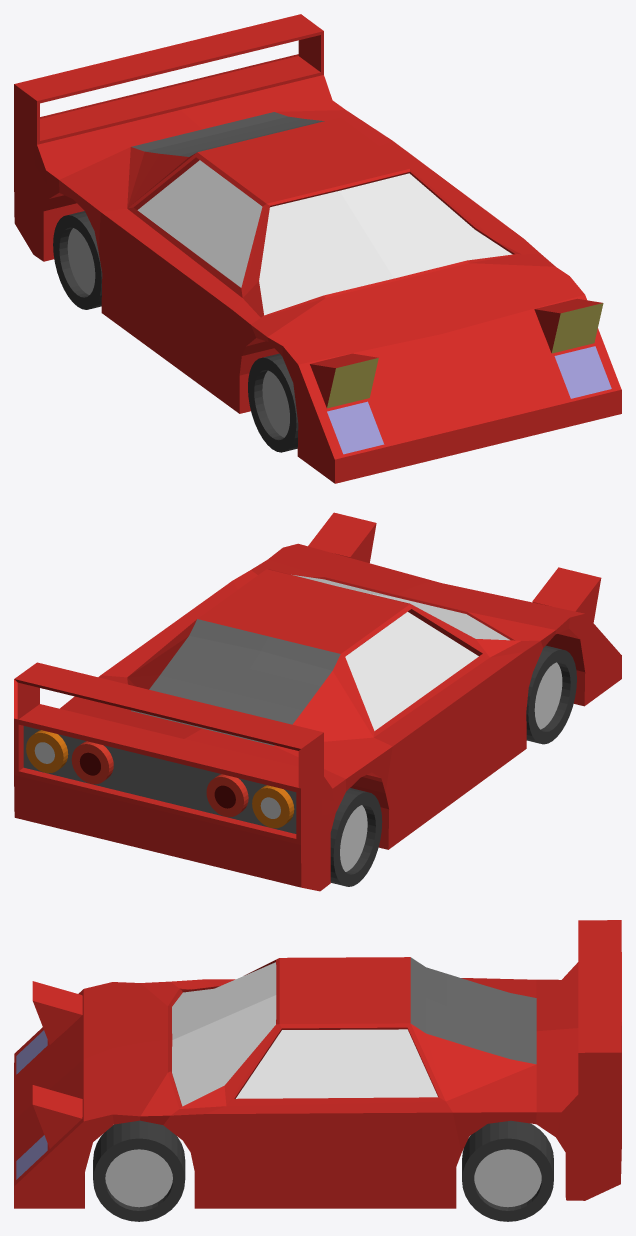
3 views of the same model, one above another, from view 1: azimuth 30°, elevation 25°; view 2: azimuth 150°, elevation 25°; view 3: azimuth 270°, elevation 25° (orthographic). The views are drawn at different scales.
Parts seen in each view (by area): view 1: Vehicle Body, Windshield, Windows, Cylinder.001, Cube, Stationary Headlight, Plane; view 2: Vehicle Body, Windows, Cylinder.001, Cube, Brake Signals, Turn Signals, Windshield; view 3: Vehicle Body, Cylinder, Windows, Windshield, Cube, Plane, Stationary Headlight.
Part boxes in pixels (x1,y1,x2,y2): Vehicle Body: (14,14,621,483); Windshield: (259,173,512,315); Windows: (137,160,262,287); Cylinder.001: (53,211,298,452); Cube: (310,298,603,408); Stationary Headlight: (327,401,384,454); Plane: (554,346,611,398); Vehicle Body: (14,543,621,891); Windows: (345,612,478,730); Cylinder.001: (330,645,576,886); Cube: (308,512,601,622); Brake Signals: (71,741,248,817); Turn Signals: (26,730,294,828); Windshield: (291,574,509,640); Vehicle Body: (14,920,621,1208); Cylinder: (93,1120,553,1221); Windows: (236,1029,437,1098); Windshield: (172,962,276,1106); Cube: (32,981,82,1148); Plane: (16,1135,47,1179); Stationary Headlight: (16,1030,47,1074).
Bounding box in the file's own units: 407 × 239 × 775.
